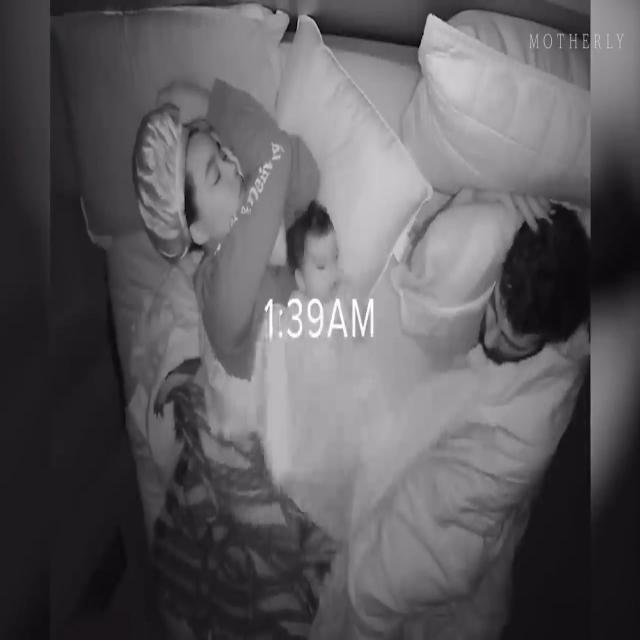baby: (286, 198, 356, 312)
